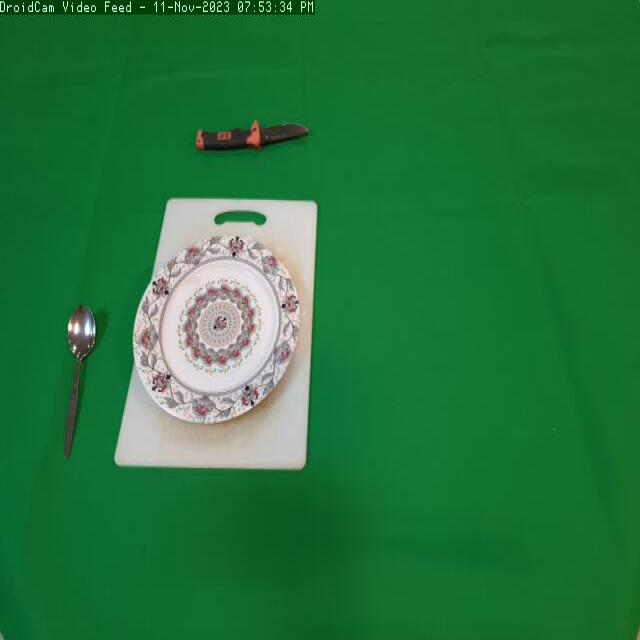cutting board: (116, 182, 338, 507)
knife: (187, 111, 315, 164)
plate: (139, 236, 301, 433)
spoon: (54, 294, 102, 468)
